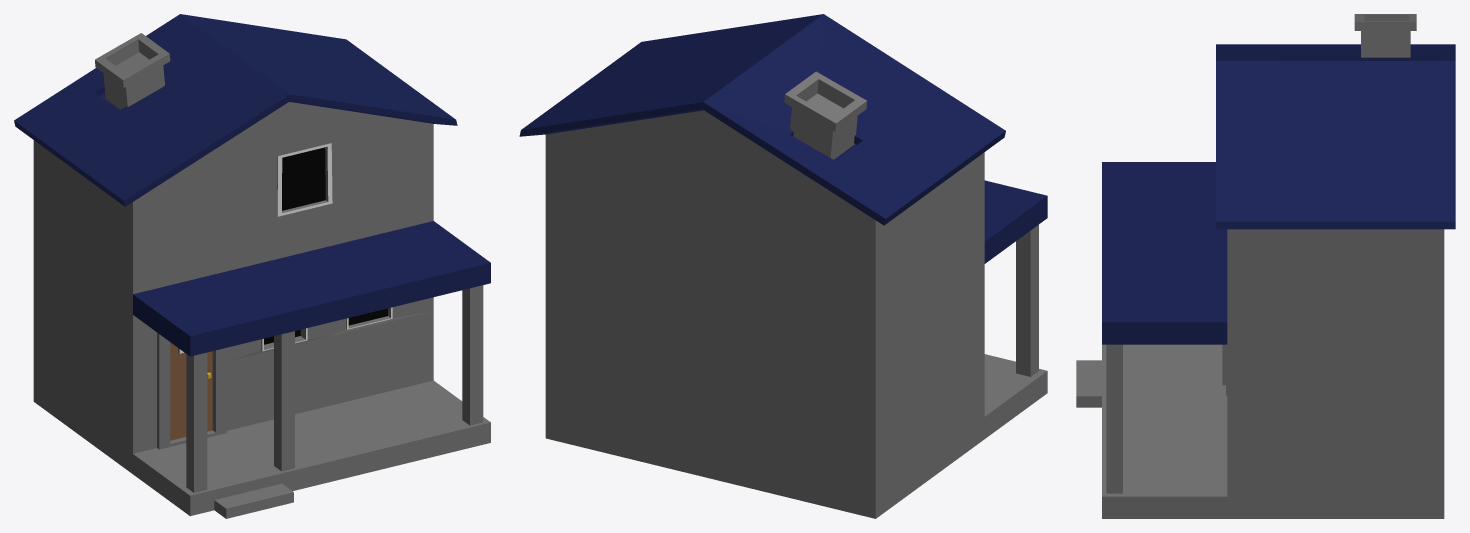
The model's file is Gam3rhouse.fbx.
3 views of the same model, side by side, from view 1: azimuth 30°, elevation 25°; view 2: azimuth 150°, elevation 25°; view 3: azimuth 270°, elevation 25° (orthographic). The views are drawn at different scales.
Visible parts, largest first — view 1: Cube; view 2: Cube; view 3: Cube.
Part boxes in pixels (<box>): Cube: <box>14,14,490,518</box>; Cube: <box>519,14,1047,518</box>; Cube: <box>1076,14,1455,518</box>.
Size of the model in its own units: 3557 by 3611 by 3205.
